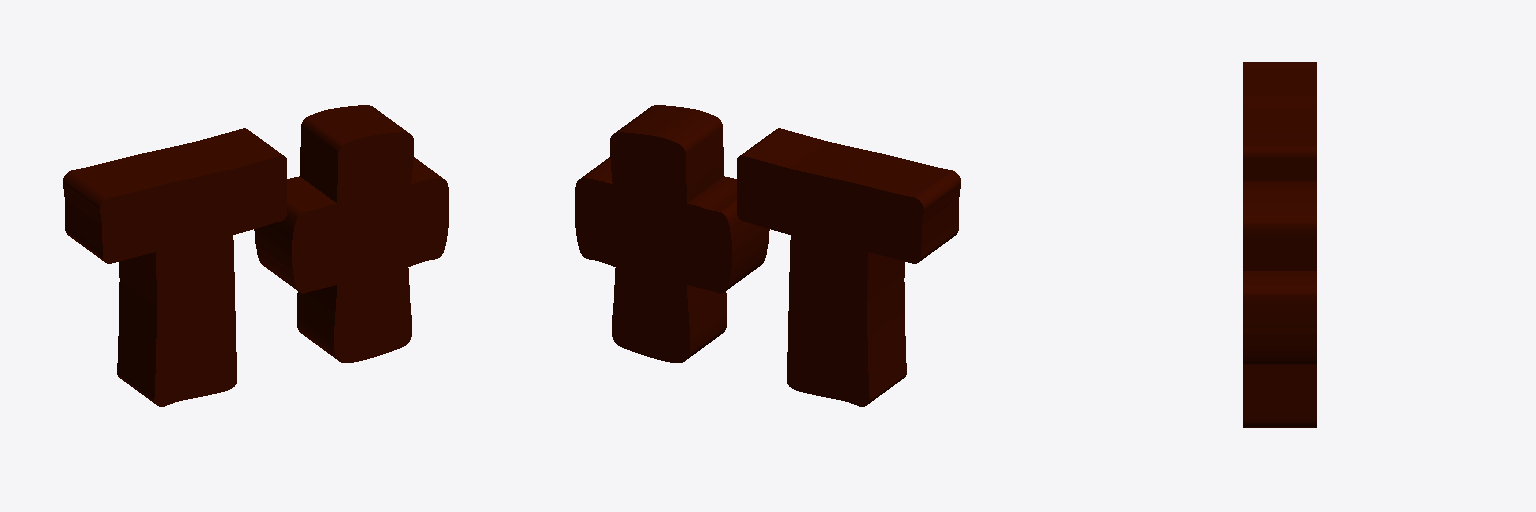
The model's file is Letter_t.obj.
3 renders of one model, left to right at view 1: azimuth 30°, elevation 25°; view 2: azimuth 150°, elevation 25°; view 3: azimuth 270°, elevation 25°, orthographic.
Parts seen in each view (by area): view 1: Text; view 2: Text; view 3: Text.
Boxes of the visible parts, <box> form: Text: <box>63,105,448,406</box>; Text: <box>575,105,960,406</box>; Text: <box>1243,62,1316,427</box>.
Size of the model in its own units: 1.08 by 0.6642 by 0.2.